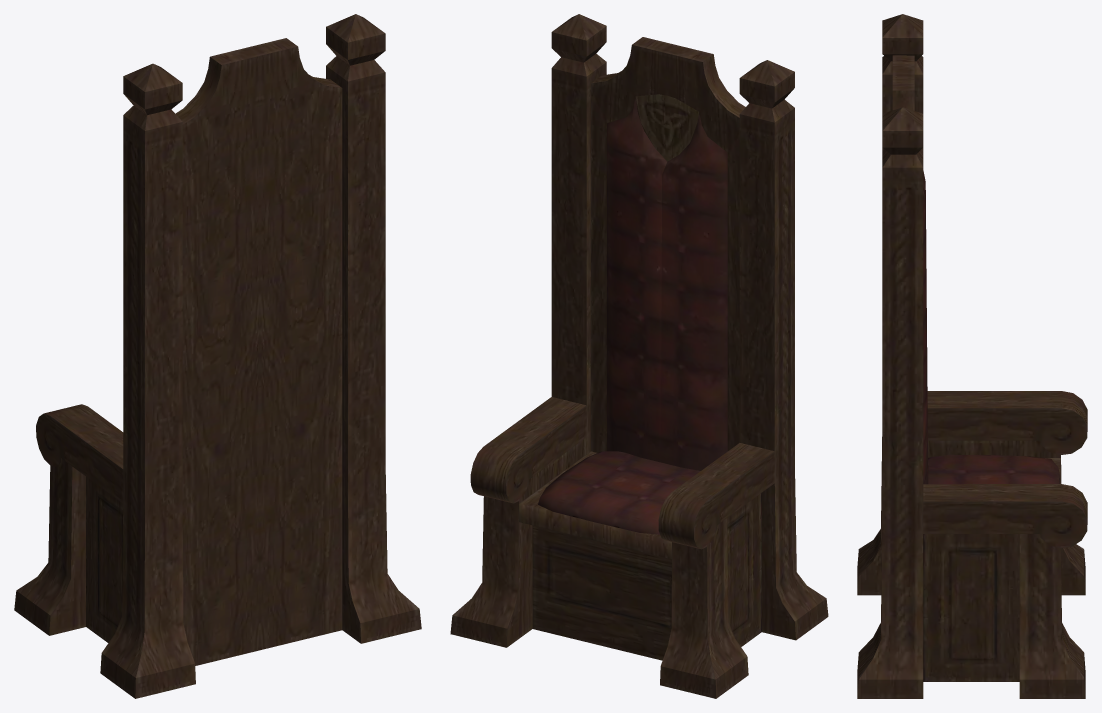
File: eso_gu3_woodfurniture24-transformed.glb
3 renders of one model, left to right at view 1: azimuth 30°, elevation 25°; view 2: azimuth 150°, elevation 25°; view 3: azimuth 270°, elevation 25°, orthographic. The views are drawn at different scales.
Visible parts, largest first — view 1: default; view 2: default; view 3: default.
Boxes of the visible parts, x1,y1,x2,y2 form: default: (14,14,421,698); default: (450,14,828,698); default: (857,14,1087,698).
Size of the model in its own units: 1.22 by 2.47 by 0.8993.
1 material, 1 textured.
